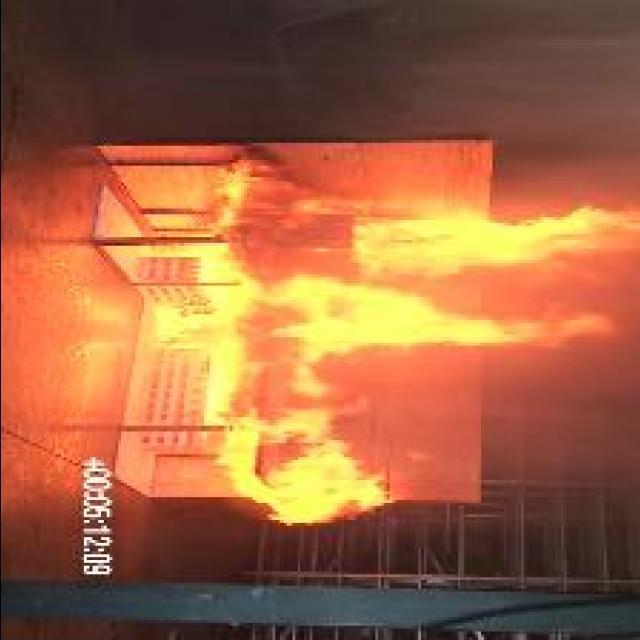Fire: (154, 152, 640, 526)
